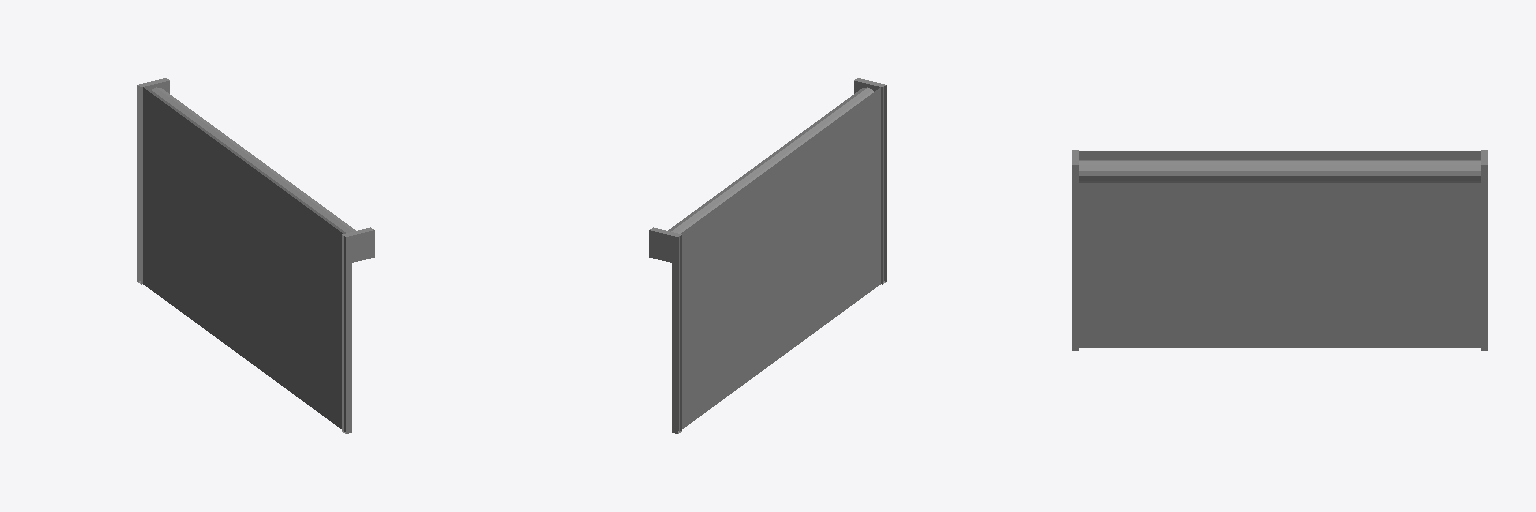
File: Shutter.obj
The picture shows the model from 3 angles: view 1: azimuth 30°, elevation 25°; view 2: azimuth 150°, elevation 25°; view 3: azimuth 270°, elevation 25°; orthographic projection.
Visible parts, largest first — view 1: Shutter; view 2: Shutter; view 3: Shutter.
Boxes of the visible parts, box(x1,y1,x2,y2) form: Shutter: box(137, 78, 374, 433); Shutter: box(649, 78, 886, 433); Shutter: box(1072, 150, 1487, 350).
Bounding box in the file's own units: 34.89 × 227 × 435.